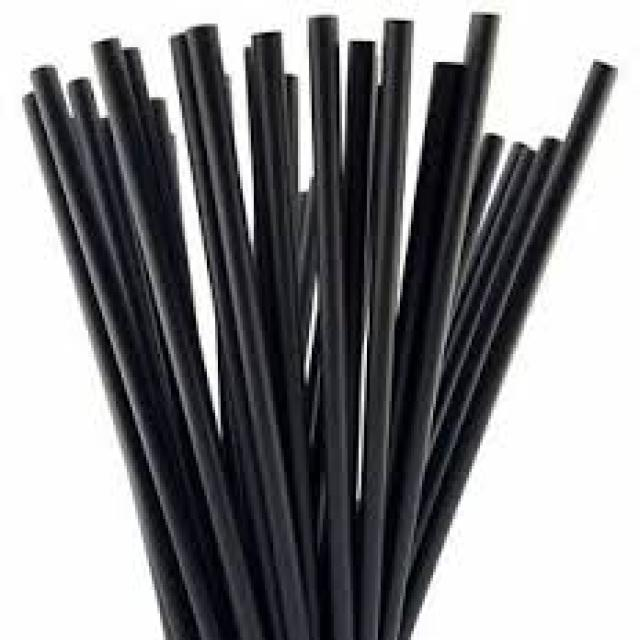plastic: (496, 50, 637, 640)
